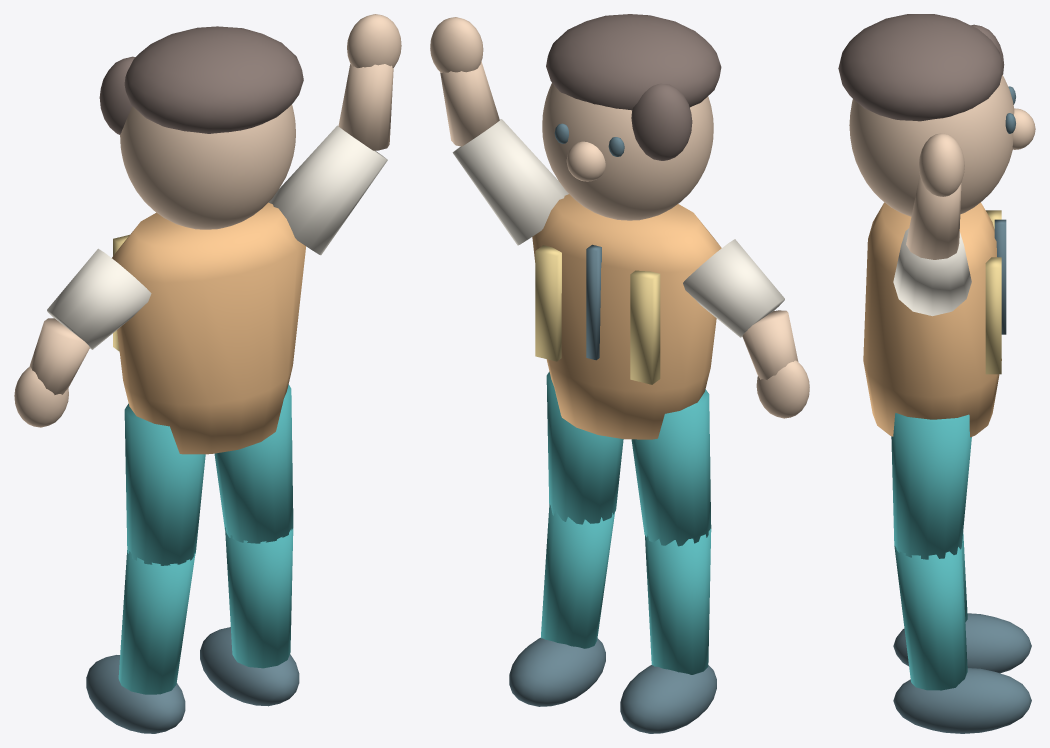
The model's file is rescue_person_child.glb.
3 views of the same model, side by side, from view 1: azimuth 30°, elevation 25°; view 2: azimuth 150°, elevation 25°; view 3: azimuth 270°, elevation 25° (orthographic). The views are drawn at different scales.
Parts seen in each view (by area): view 1: jacket_body, hair_cap, head, trouser_thigh_-1, trouser_shin_-1, trouser_shin_1, sleeve_1, trouser_thigh_1, sleeve_-1, shoe_-1, shoe_1, forearm_1 (+4 smaller); view 2: jacket_body, head, hair_cap, trouser_thigh_-1, trouser_shin_-1, trouser_shin_1, sleeve_1, trouser_thigh_1, sleeve_-1, shoe_-1, shoe_1, side_fringe (+8 smaller); view 3: jacket_body, hair_cap, head, trouser_thigh_1, trouser_shin_1, shoe_1, sleeve_1, shoe_-1, forearm_1, hand_1, vest_reflector_1, zipper (+1 smaller).
Part boxes in pixels (bbox=[...]): jacket_body: bbox=[112, 202, 305, 454]; hair_cap: bbox=[124, 26, 303, 133]; head: bbox=[120, 104, 295, 229]; trouser_thigh_-1: bbox=[124, 403, 205, 565]; trouser_shin_-1: bbox=[118, 550, 195, 694]; trouser_shin_1: bbox=[225, 527, 293, 668]; sleeve_1: bbox=[268, 125, 387, 255]; trouser_thigh_1: bbox=[214, 384, 293, 543]; sleeve_-1: bbox=[47, 248, 151, 349]; shoe_-1: bbox=[86, 655, 185, 733]; shoe_1: bbox=[200, 627, 299, 706]; forearm_1: bbox=[338, 64, 393, 150]; jacket_body: bbox=[532, 194, 721, 439]; head: bbox=[542, 83, 713, 220]; hair_cap: bbox=[546, 14, 721, 110]; trouser_thigh_-1: bbox=[631, 389, 711, 546]; trouser_shin_-1: bbox=[645, 528, 711, 674]; trouser_shin_1: bbox=[540, 504, 614, 648]; sleeve_1: bbox=[452, 119, 568, 245]; trouser_thigh_1: bbox=[546, 371, 623, 524]; sleeve_-1: bbox=[683, 239, 784, 337]; shoe_-1: bbox=[620, 665, 716, 733]; shoe_1: bbox=[509, 638, 605, 706]; side_fringe: bbox=[631, 83, 692, 160]; jacket_body: bbox=[863, 202, 1001, 437]; hair_cap: bbox=[838, 14, 1003, 121]; head: bbox=[849, 75, 1014, 216]; trouser_thigh_1: bbox=[891, 413, 971, 559]; trouser_shin_1: bbox=[894, 546, 967, 690]; shoe_1: bbox=[893, 668, 1031, 733]; sleeve_1: bbox=[893, 228, 971, 316]; shoe_-1: bbox=[893, 613, 1031, 673]; forearm_1: bbox=[906, 175, 961, 259]; hand_1: bbox=[918, 133, 964, 196]; vest_reflector_1: bbox=[985, 257, 1001, 374]; zipper: bbox=[994, 219, 1006, 334].
Size of the model in its own units: 0.8007 by 1.37 by 0.3629.
